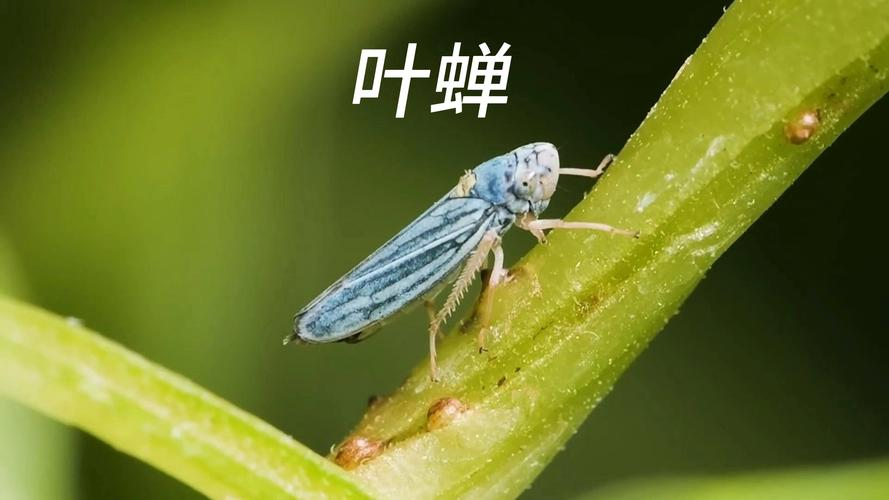Cicadellidae: (292, 142, 643, 382)
